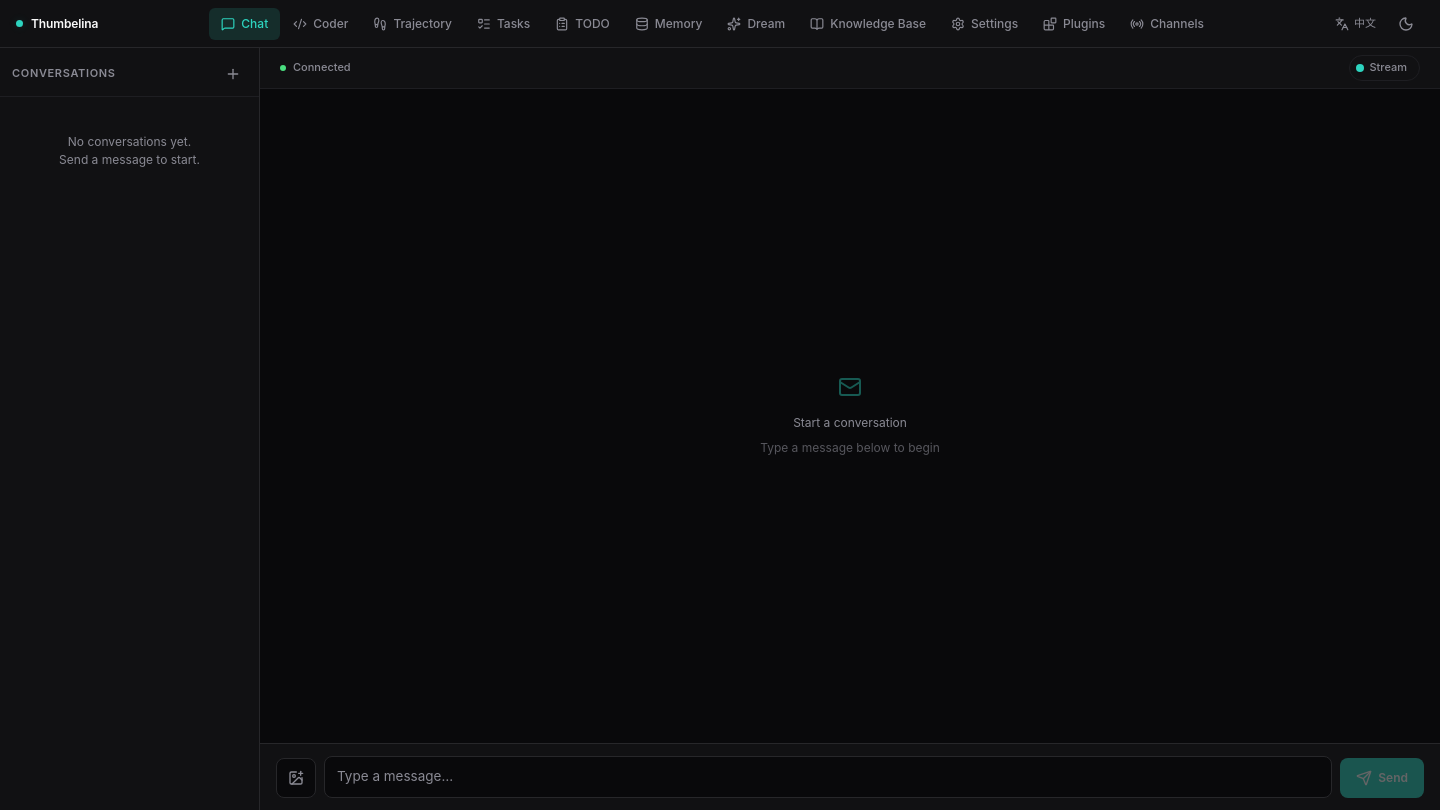
Test case: App › switches to trajectory page from nav
This screenshot has width=1440, height=810.
Click the button with test id "nav-trajectory" at (413, 24), box [361, 8, 464, 40]
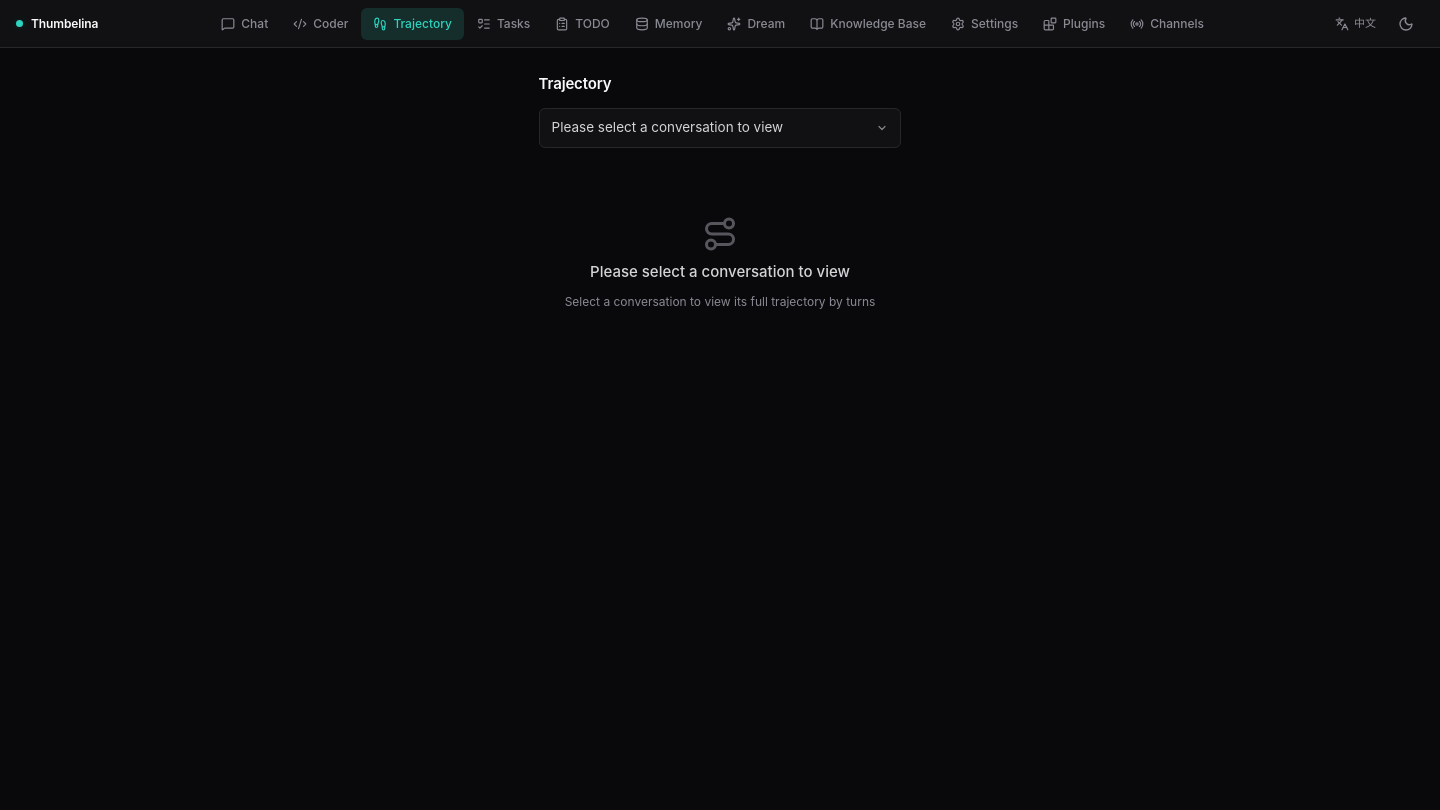
expect the element with test id "trajectory-page" is shown: met, box [539, 64, 901, 309]
